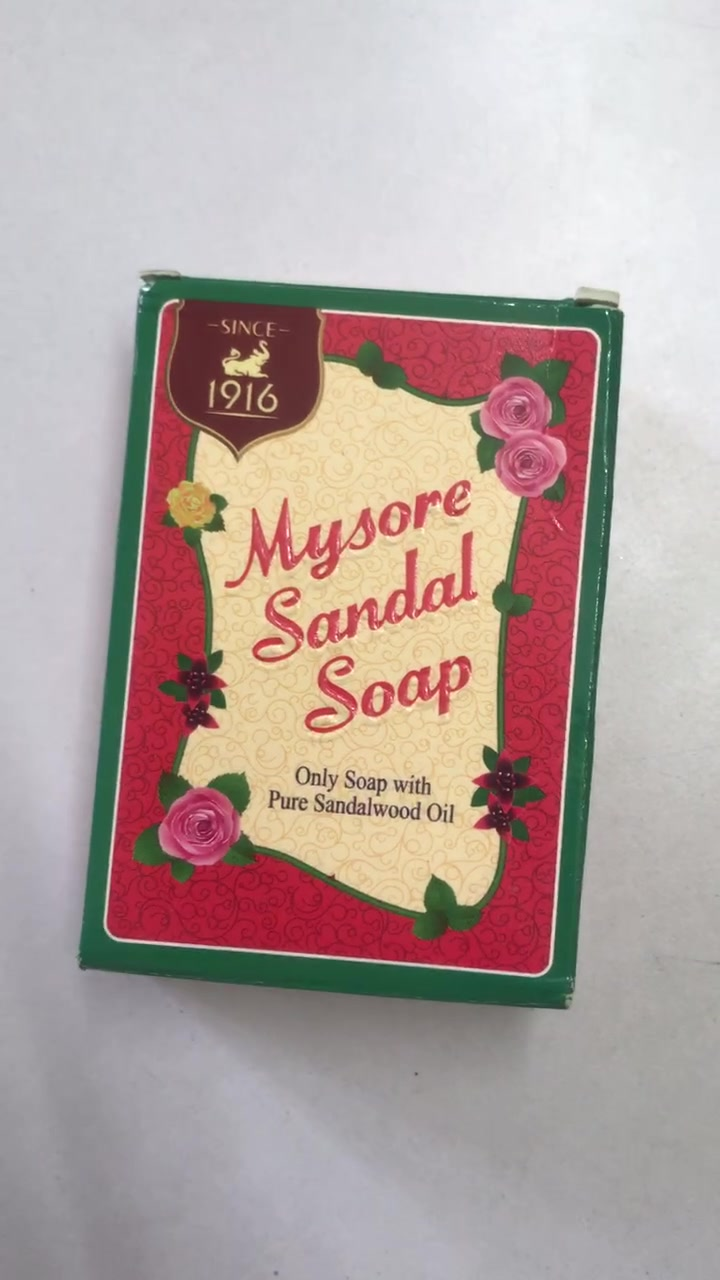mysore sandal soap: (78, 278, 624, 1016)
